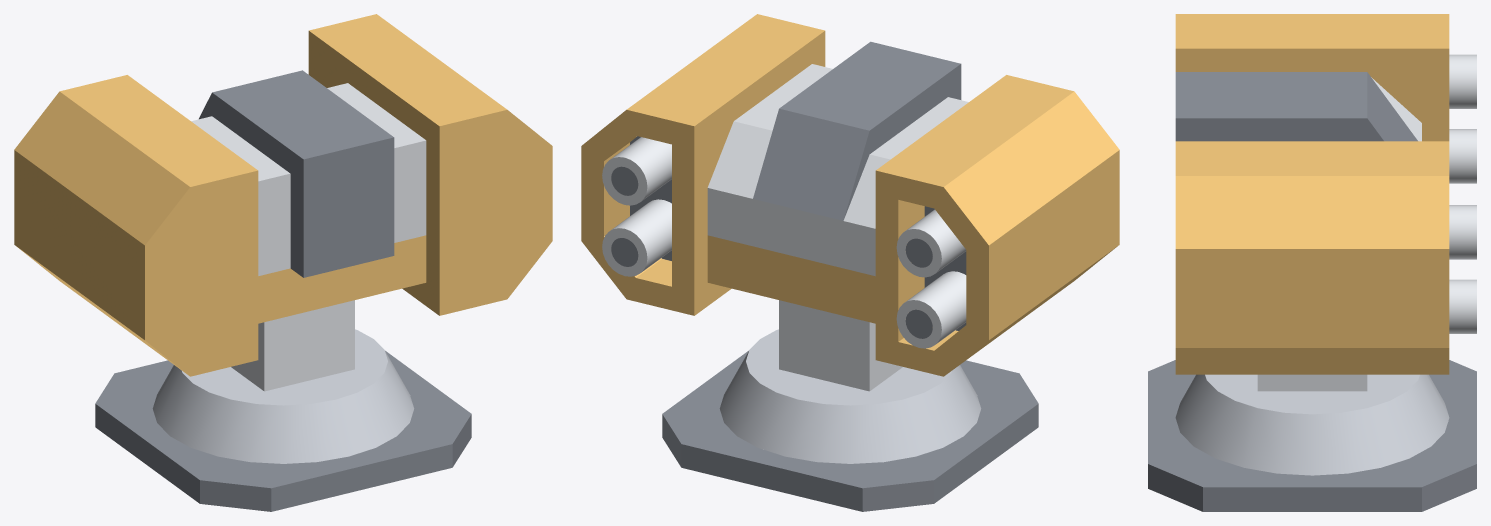
The model's file is turret_double.glb.
3 views of the same model, side by side, from view 1: azimuth 30°, elevation 25°; view 2: azimuth 150°, elevation 25°; view 3: azimuth 270°, elevation 25° (orthographic). The views are drawn at different scales.
Visible parts, largest first — view 1: turret, turret_double; view 2: turret_double, turret; view 3: turret, turret_double.
Part boxes in pixels (x1,y1,x2,y2): turret: (14,14,552,376); turret_double: (95,70,471,511); turret_double: (602,41,1038,511); turret: (581,14,1119,376); turret: (1175,14,1449,374); turret_double: (1148,54,1476,511).
Size of the model in its own units: 0.9 by 0.7 by 0.6.
